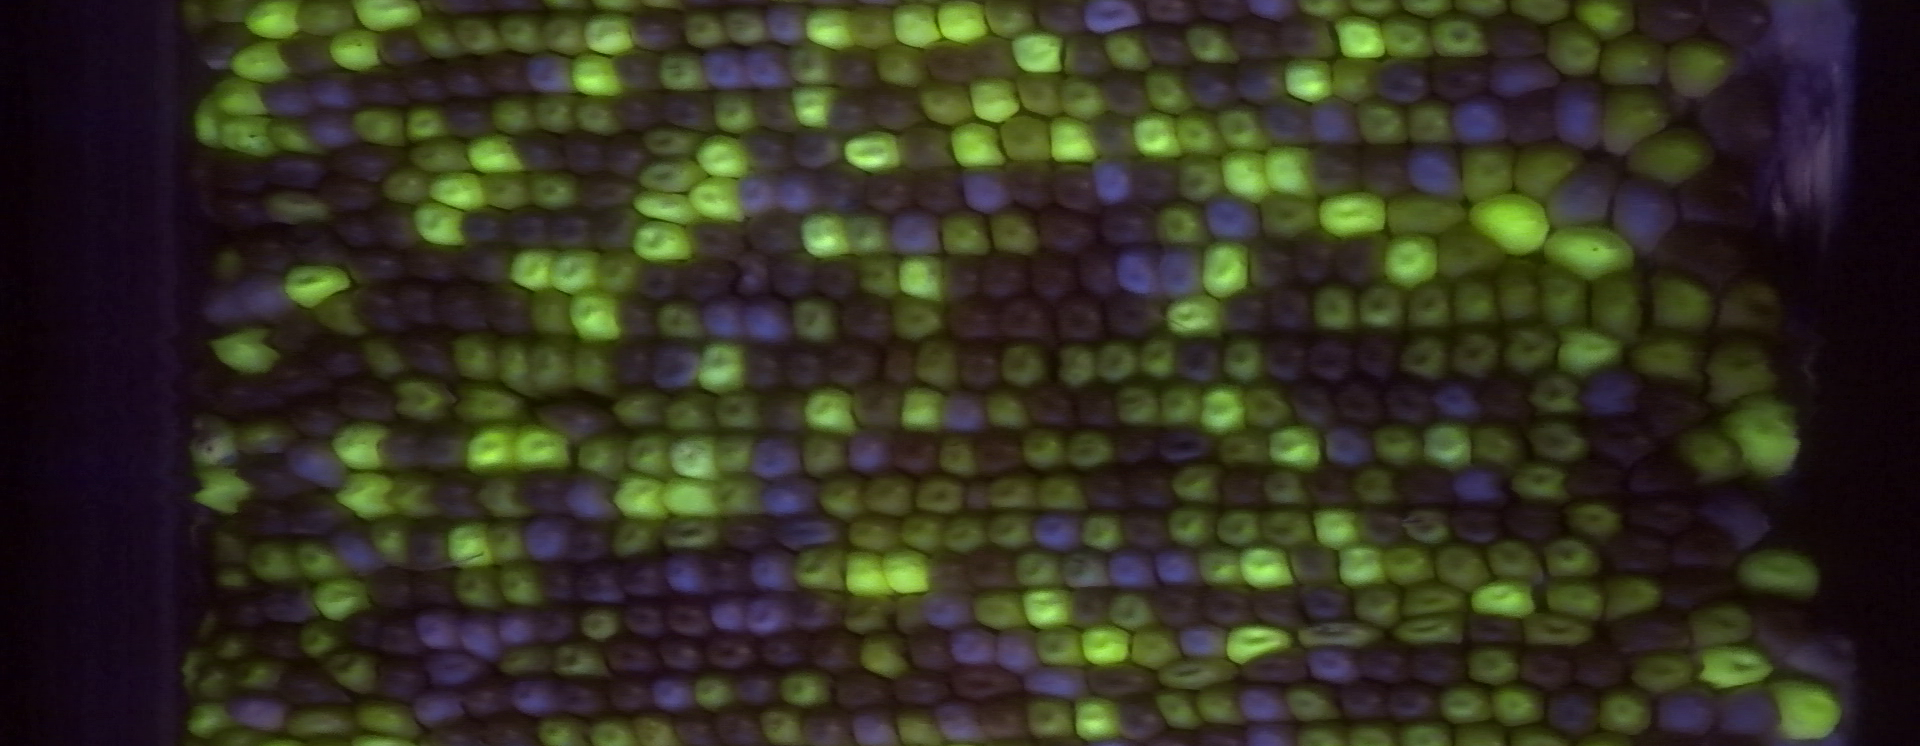fluorescent: (1717, 390, 1802, 485), (1701, 334, 1787, 420), (1622, 325, 1716, 401), (1621, 122, 1720, 189), (1760, 674, 1849, 746), (1463, 189, 1551, 261), (1598, 81, 1678, 160), (1643, 265, 1722, 345), (1506, 135, 1591, 206), (1536, 223, 1640, 281), (1731, 543, 1829, 601), (1668, 424, 1747, 492), (1586, 267, 1651, 350), (446, 377, 542, 432), (1662, 36, 1740, 103), (1430, 219, 1511, 283), (1531, 265, 1600, 337), (1591, 28, 1671, 89), (1381, 187, 1473, 240), (200, 322, 285, 379), (182, 461, 260, 521), (1551, 320, 1629, 379), (1678, 598, 1764, 649), (1456, 141, 1522, 208), (1540, 17, 1607, 83), (386, 372, 463, 429), (1378, 229, 1442, 294), (1693, 642, 1780, 690), (459, 418, 524, 481), (1498, 322, 1564, 385), (1315, 189, 1393, 241), (1196, 235, 1258, 303), (1464, 416, 1533, 477), (348, 695, 433, 742), (1624, 647, 1703, 698), (1591, 684, 1667, 737), (1161, 288, 1232, 345), (797, 383, 868, 441), (508, 420, 580, 477), (280, 258, 358, 311), (328, 416, 396, 477), (328, 470, 403, 524), (1422, 9, 1498, 61), (1520, 412, 1592, 467), (444, 325, 507, 388), (380, 467, 447, 526), (605, 472, 678, 526), (1483, 537, 1551, 594), (182, 407, 242, 472), (626, 184, 711, 229), (523, 337, 580, 404), (1464, 576, 1545, 624), (1254, 187, 1324, 243), (1213, 146, 1276, 207), (1261, 142, 1325, 202), (564, 285, 628, 345), (230, 410, 306, 461), (1396, 92, 1462, 149), (310, 285, 377, 342), (1262, 419, 1330, 475), (1155, 653, 1245, 695), (492, 330, 542, 404), (993, 337, 1056, 397), (355, 330, 418, 390), (1401, 274, 1460, 338), (227, 36, 298, 88), (982, 201, 1047, 258), (1490, 263, 1547, 330), (459, 129, 535, 178), (1537, 577, 1613, 626), (839, 125, 911, 176), (1152, 198, 1220, 254), (1427, 541, 1494, 597), (787, 292, 849, 352), (1520, 608, 1605, 650), (564, 338, 623, 401), (542, 243, 606, 300), (1418, 415, 1476, 479), (1395, 575, 1476, 620), (993, 111, 1058, 168), (658, 472, 729, 523), (242, 535, 309, 590), (317, 646, 384, 699), (795, 428, 855, 488), (1171, 107, 1233, 164), (1376, 10, 1441, 65), (684, 173, 751, 227), (407, 197, 473, 251), (838, 206, 904, 260), (969, 584, 1035, 638), (1449, 272, 1502, 338), (1124, 624, 1191, 676), (692, 131, 760, 183), (855, 470, 923, 522), (309, 575, 377, 626), (838, 544, 898, 603), (1538, 534, 1607, 586), (1353, 281, 1416, 337), (891, 250, 955, 305), (448, 563, 512, 619), (1068, 691, 1131, 746), (915, 80, 984, 130), (1487, 680, 1551, 734), (636, 153, 713, 198), (1567, 1, 1644, 47), (813, 469, 879, 522), (1526, 369, 1592, 421), (1509, 457, 1575, 510), (1292, 617, 1397, 650), (1222, 620, 1293, 669), (1598, 573, 1669, 622), (347, 99, 414, 151), (1307, 279, 1367, 337), (1368, 419, 1430, 474), (280, 701, 362, 742), (216, 110, 282, 162), (609, 385, 675, 436), (708, 469, 774, 521), (696, 338, 753, 397), (443, 516, 501, 575), (795, 207, 855, 263), (503, 244, 564, 299), (936, 206, 997, 261), (789, 541, 850, 597), (1392, 332, 1453, 387), (474, 472, 536, 526), (1236, 541, 1298, 595), (853, 627, 916, 681), (1177, 20, 1245, 69), (1161, 500, 1224, 552), (1400, 500, 1463, 552), (403, 134, 479, 178), (260, 184, 336, 228), (422, 168, 492, 216), (1559, 499, 1629, 546), (1095, 24, 1161, 75), (651, 512, 731, 554), (525, 285, 584, 342), (1445, 328, 1504, 385), (876, 543, 936, 598), (545, 638, 616, 685), (1238, 380, 1299, 434), (1254, 503, 1321, 552), (1103, 587, 1171, 636), (947, 119, 1009, 171), (648, 295, 711, 347), (774, 665, 846, 710), (287, 535, 351, 586), (1351, 96, 1416, 146), (1280, 680, 1349, 726), (1171, 151, 1228, 207), (933, 428, 989, 485), (1129, 107, 1188, 162), (1196, 380, 1251, 439), (1016, 582, 1082, 631), (1021, 691, 1080, 746), (1044, 114, 1104, 168), (1344, 581, 1406, 633), (842, 512, 913, 557), (1190, 680, 1254, 730), (1310, 502, 1367, 559), (964, 73, 1022, 127), (1090, 334, 1149, 388), (1349, 461, 1408, 514), (637, 119, 707, 164), (1213, 103, 1273, 156), (890, 295, 950, 348), (568, 49, 629, 100), (1109, 379, 1171, 430), (838, 2, 901, 51), (524, 167, 588, 216), (1330, 13, 1393, 62), (912, 338, 967, 394), (1018, 423, 1073, 479), (1392, 612, 1477, 649), (1010, 69, 1068, 122), (591, 246, 649, 300), (1051, 337, 1104, 394), (1029, 470, 1093, 518), (1062, 423, 1122, 474), (576, 430, 636, 481), (605, 516, 671, 562), (1007, 28, 1069, 77), (1030, 624, 1092, 673), (1434, 681, 1498, 729), (1131, 330, 1187, 385), (659, 390, 718, 441), (1280, 55, 1338, 107), (931, 2, 996, 49), (211, 75, 277, 120), (184, 89, 229, 156), (1461, 643, 1527, 688), (1053, 75, 1116, 122), (910, 472, 972, 519), (983, 472, 1046, 519), (1213, 334, 1269, 388), (895, 383, 951, 436), (479, 517, 535, 570), (1142, 69, 1200, 120), (666, 432, 724, 484), (571, 91, 629, 141), (1213, 425, 1272, 475), (1333, 539, 1392, 589), (874, 40, 934, 89), (784, 40, 844, 89), (894, 510, 954, 559), (476, 168, 538, 216), (1164, 461, 1226, 508), (853, 249, 909, 301), (1153, 380, 1209, 432), (362, 514, 414, 571), (981, 386, 1038, 436), (982, 506, 1040, 556), (936, 510, 994, 559), (1078, 621, 1136, 670), (264, 114, 326, 160), (1326, 55, 1379, 109), (801, 5, 857, 55), (711, 388, 768, 439), (622, 429, 678, 479), (1213, 503, 1270, 554), (493, 561, 550, 611), (654, 47, 711, 96), (888, 2, 947, 50), (229, 653, 288, 701), (838, 593, 898, 639), (1378, 541, 1442, 584), (1078, 506, 1131, 557), (787, 82, 842, 132), (1194, 541, 1250, 590), (980, 1, 1042, 45), (487, 91, 544, 138), (1011, 544, 1068, 592), (493, 13, 551, 60), (580, 11, 638, 58), (380, 167, 442, 209), (493, 641, 560, 681), (180, 699, 240, 744), (710, 428, 759, 481), (1256, 464, 1318, 507), (239, 1, 304, 42), (451, 13, 507, 60), (718, 4, 774, 50), (1149, 687, 1206, 733), (528, 708, 596, 746), (889, 702, 948, 746), (539, 10, 591, 59), (326, 29, 386, 72), (691, 668, 742, 717), (531, 91, 585, 137), (573, 599, 627, 646), (711, 88, 763, 136), (294, 617, 345, 665), (291, 1, 358, 38), (413, 15, 463, 62), (351, 1, 424, 34), (753, 706, 811, 746), (622, 708, 683, 746), (202, 246, 255, 290), (680, 9, 733, 51), (203, 559, 260, 598), (400, 102, 452, 145), (192, 664, 242, 707), (171, 644, 207, 704), (207, 528, 253, 572), (583, 712, 640, 746), (209, 626, 258, 665), (1505, 1, 1575, 28)
nonfluorescent: (1693, 65, 1779, 164), (1539, 149, 1627, 232), (1603, 167, 1682, 255), (1637, 220, 1741, 287), (1734, 586, 1823, 660), (1671, 160, 1762, 234), (531, 383, 624, 450), (1777, 627, 1858, 702), (1696, 477, 1773, 552), (1651, 556, 1739, 620), (1622, 372, 1703, 441), (1550, 73, 1611, 157), (1604, 606, 1693, 663), (1509, 636, 1584, 702), (388, 327, 467, 390), (229, 263, 302, 330), (1615, 453, 1701, 510), (234, 453, 328, 503), (1658, 527, 1744, 582), (1395, 140, 1466, 205), (1649, 679, 1723, 741), (1416, 51, 1496, 108), (283, 486, 354, 549), (280, 434, 353, 495), (1619, 488, 1702, 540), (1584, 413, 1660, 470), (833, 290, 902, 353), (430, 277, 493, 344), (1364, 54, 1440, 110), (1283, 228, 1344, 298), (214, 369, 287, 428), (1479, 51, 1565, 100), (418, 644, 497, 697), (331, 372, 400, 432), (1384, 459, 1460, 514), (1709, 679, 1780, 737), (322, 140, 409, 187), (765, 510, 852, 557), (1080, 659, 1164, 708), (972, 249, 1038, 311), (1554, 454, 1632, 507), (825, 666, 900, 722), (809, 158, 874, 220), (1020, 247, 1082, 312), (1327, 377, 1393, 439), (1352, 141, 1419, 201), (1602, 526, 1676, 579), (1095, 290, 1167, 345), (1538, 681, 1603, 742), (234, 216, 302, 273), (280, 392, 349, 450), (348, 279, 411, 341), (698, 544, 759, 608), (1178, 58, 1243, 118), (560, 468, 624, 528), (759, 472, 831, 526), (594, 630, 666, 684), (1200, 187, 1267, 245), (1222, 13, 1292, 69), (1504, 496, 1573, 551), (1478, 9, 1549, 62), (1089, 67, 1160, 121), (1284, 575, 1356, 628), (948, 333, 1009, 396), (1284, 376, 1346, 439), (1046, 293, 1106, 356), (513, 464, 577, 524), (207, 576, 271, 636), (1303, 145, 1368, 203), (327, 523, 392, 582), (337, 241, 413, 292), (1273, 11, 1340, 69), (1403, 636, 1469, 693), (1624, 2, 1712, 45), (1455, 605, 1528, 657), (277, 660, 351, 710), (284, 212, 347, 272), (1196, 576, 1259, 636), (271, 27, 342, 80), (684, 212, 756, 265), (673, 256, 744, 309), (246, 576, 317, 628), (399, 512, 457, 577), (1566, 639, 1631, 697), (882, 424, 948, 480), (1142, 578, 1209, 635), (482, 278, 538, 345), (268, 350, 336, 405), (1576, 361, 1643, 416), (426, 470, 493, 526), (1258, 93, 1319, 153), (1020, 375, 1080, 436), (656, 548, 718, 608), (1332, 229, 1391, 292), (1216, 282, 1278, 341), (1171, 332, 1233, 391), (1299, 332, 1362, 391), (1227, 54, 1291, 111), (606, 331, 662, 396), (1073, 462, 1138, 518), (622, 2, 688, 58), (989, 296, 1056, 352), (891, 122, 959, 176), (741, 431, 809, 484), (229, 492, 298, 545), (797, 625, 866, 677), (1114, 462, 1177, 519), (449, 606, 507, 669), (397, 241, 467, 293), (905, 165, 970, 220), (1245, 232, 1300, 296), (1446, 499, 1511, 554), (912, 34, 980, 87), (1305, 94, 1365, 153), (1003, 157, 1062, 217), (1044, 160, 1104, 219), (742, 208, 811, 260), (1150, 244, 1209, 304), (1346, 327, 1404, 387), (966, 424, 1030, 479), (947, 665, 1026, 709), (549, 669, 613, 723), (884, 209, 950, 262), (1445, 96, 1512, 147), (1123, 153, 1180, 213), (1425, 372, 1485, 430), (1127, 23, 1199, 71), (588, 200, 649, 256), (944, 296, 1007, 352), (645, 332, 700, 394), (1378, 377, 1440, 432), (899, 626, 962, 680), (369, 650, 432, 704), (861, 85, 931, 134), (397, 278, 449, 343), (1444, 462, 1509, 514), (302, 334, 369, 386), (1082, 153, 1139, 213), (1067, 247, 1123, 307), (415, 416, 471, 477), (615, 552, 676, 608), (782, 584, 844, 639), (786, 121, 849, 175), (749, 628, 818, 677), (653, 593, 716, 646), (509, 127, 574, 179), (698, 630, 768, 677), (1035, 206, 1101, 256), (741, 544, 800, 600), (820, 40, 880, 96), (936, 247, 991, 307), (1469, 370, 1524, 430), (1498, 94, 1560, 147), (850, 382, 912, 435), (962, 544, 1026, 595), (222, 690, 290, 737), (433, 51, 498, 102), (261, 148, 331, 195), (1346, 642, 1416, 688), (741, 294, 798, 350), (1256, 333, 1314, 390), (1057, 29, 1112, 88), (936, 382, 991, 441), (337, 601, 396, 657), (411, 604, 470, 659), (1020, 661, 1093, 706), (1382, 679, 1449, 728), (962, 31, 1022, 85), (516, 512, 577, 565), (1152, 423, 1220, 470), (660, 87, 722, 138), (1330, 676, 1392, 728), (1698, 2, 1773, 45), (1238, 650, 1313, 693), (523, 48, 587, 98), (1300, 642, 1364, 692), (1303, 458, 1359, 514), (367, 197, 425, 252), (393, 55, 454, 107), (353, 60, 414, 111), (302, 64, 364, 115), (373, 601, 425, 663), (596, 671, 659, 722), (496, 203, 560, 252), (696, 295, 752, 350), (841, 428, 898, 483), (557, 126, 611, 184), (765, 247, 819, 305), (609, 288, 662, 345), (198, 281, 256, 334), (372, 419, 426, 477), (504, 668, 562, 722), (611, 85, 670, 137), (958, 163, 1016, 216), (1248, 582, 1307, 635), (653, 627, 711, 680), (478, 49, 538, 100), (860, 168, 920, 219), (569, 559, 629, 610), (1349, 499, 1411, 549), (924, 699, 992, 745), (1260, 284, 1315, 339), (744, 85, 803, 136), (316, 174, 384, 218), (822, 339, 880, 391), (1234, 682, 1303, 726), (1096, 205, 1161, 251), (542, 206, 602, 256), (457, 201, 517, 251), (986, 626, 1046, 676), (1108, 693, 1171, 741), (1067, 379, 1122, 432), (645, 673, 700, 726), (1172, 620, 1236, 666), (1085, 111, 1142, 163), (779, 342, 830, 399), (557, 517, 615, 568), (361, 563, 419, 615), (457, 239, 516, 289), (756, 388, 814, 439), (1029, 508, 1089, 557), (1146, 543, 1206, 592), (1106, 420, 1167, 468), (1102, 548, 1163, 595), (257, 73, 323, 118), (533, 559, 587, 612), (740, 129, 796, 180), (1212, 462, 1269, 513), (595, 132, 653, 183), (740, 338, 790, 396), (1320, 421, 1378, 472), (710, 513, 781, 554), (973, 697, 1035, 744), (1111, 246, 1163, 300), (825, 86, 880, 137), (564, 171, 642, 208), (740, 42, 796, 92), (697, 44, 756, 92), (404, 565, 459, 615), (708, 703, 774, 745), (610, 47, 669, 93), (813, 252, 863, 306), (887, 669, 951, 710), (261, 307, 322, 352), (740, 592, 796, 639), (458, 676, 514, 724), (1025, 1, 1093, 40), (797, 702, 860, 745), (407, 686, 465, 731), (618, 597, 672, 646), (370, 24, 429, 69), (926, 549, 977, 599), (218, 149, 271, 198), (493, 598, 542, 650), (947, 624, 1000, 671), (920, 587, 976, 632), (298, 109, 360, 149), (633, 261, 688, 306), (733, 167, 781, 218), (1286, 540, 1340, 586), (729, 668, 782, 713), (1131, 1, 1205, 34), (873, 341, 921, 391), (475, 709, 545, 744), (440, 98, 498, 138), (1078, 1, 1144, 37), (1119, 510, 1173, 552), (1067, 582, 1114, 630), (762, 4, 812, 49), (703, 595, 753, 641), (336, 207, 383, 254), (529, 601, 577, 648), (667, 706, 725, 744), (850, 704, 905, 744), (767, 170, 817, 212), (1187, 1, 1255, 31), (1239, 1, 1303, 27)
